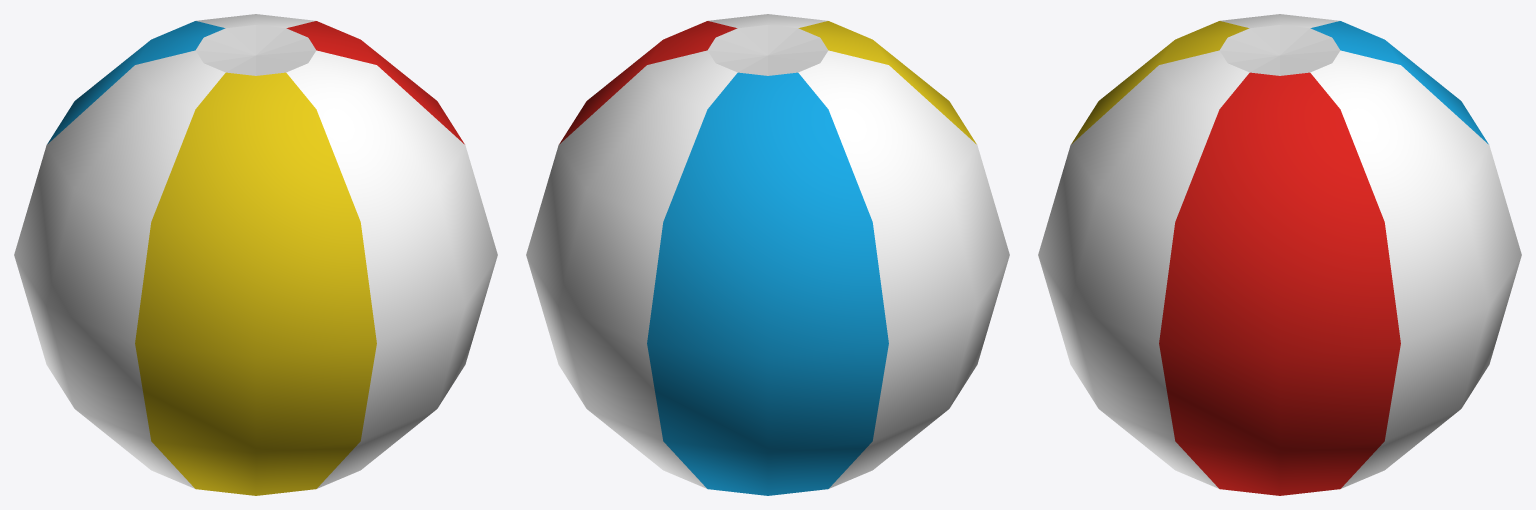
File: BEACHBALL.fbx
The picture shows the model from 3 angles, left to right: view 1: azimuth 30°, elevation 25°; view 2: azimuth 150°, elevation 25°; view 3: azimuth 270°, elevation 25°; orthographic projection.
Visible parts, largest first — view 1: BEACHBALL; view 2: BEACHBALL; view 3: BEACHBALL.
Part boxes in pixels (bbox=[...]): BEACHBALL: bbox=[14, 14, 497, 495]; BEACHBALL: bbox=[526, 14, 1009, 495]; BEACHBALL: bbox=[1038, 14, 1521, 495].
Bounding box in the file's own units: 200 × 187 × 200.
Materials: 1 (1 with a texture image).
